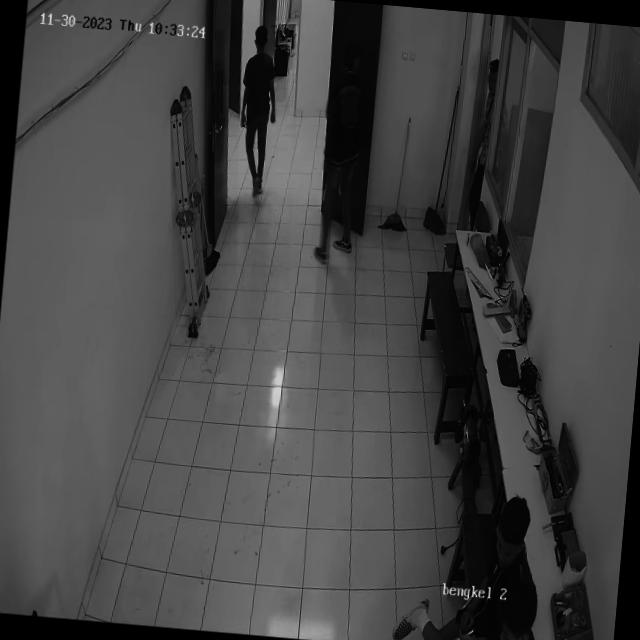person: (308, 40, 378, 267), (226, 14, 288, 207)
